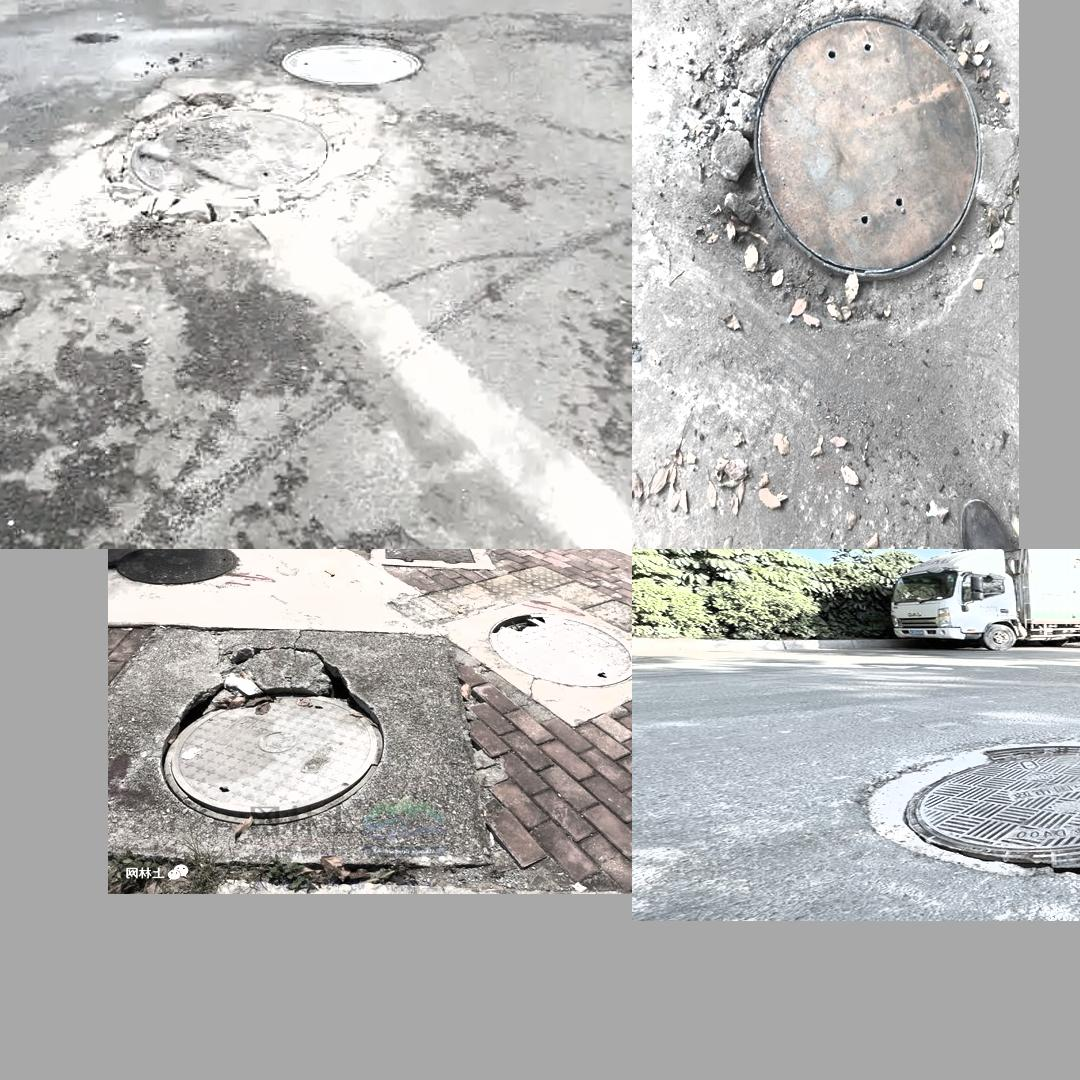circle: (678, 0, 1008, 350), (110, 618, 499, 867), (30, 79, 374, 288), (804, 723, 1080, 893)
